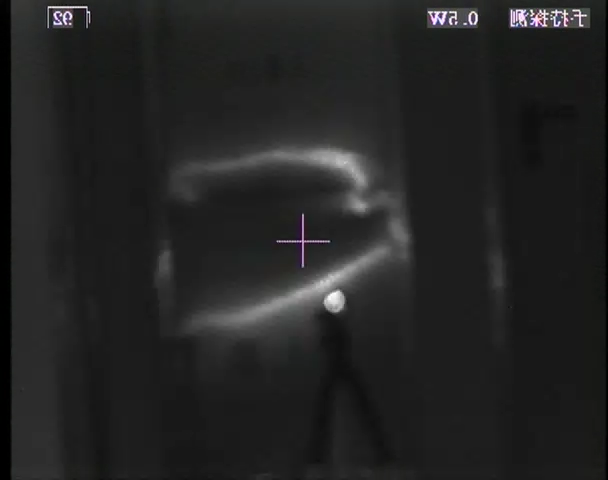my: (322, 289, 348, 315)
